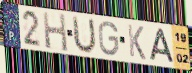2: (21, 9, 42, 49)
A: (148, 28, 176, 66)
G: (98, 20, 120, 58)
H: (41, 11, 69, 54)
K: (127, 23, 147, 62)
U: (72, 15, 98, 55)
